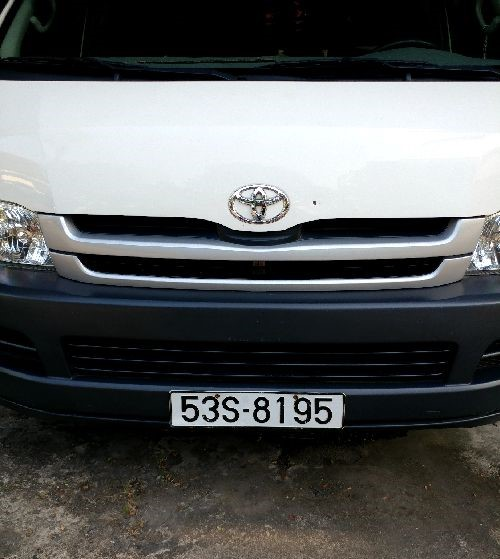number_plate: (163, 389, 352, 436)
